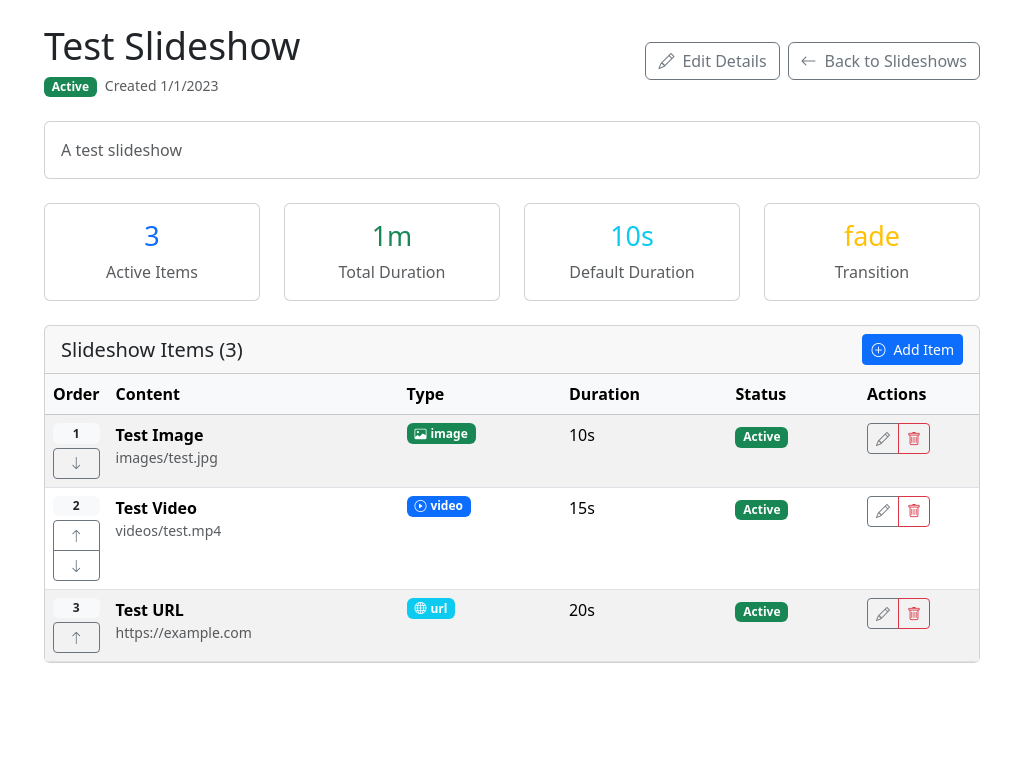
Test case: SlideshowDetail › handles add new item
Expected: the heading "Test Slideshow" is shown, [44, 24, 300, 69]
Click add item button
Click the button "Add Item".
click(913, 350)  # box [862, 334, 963, 365]
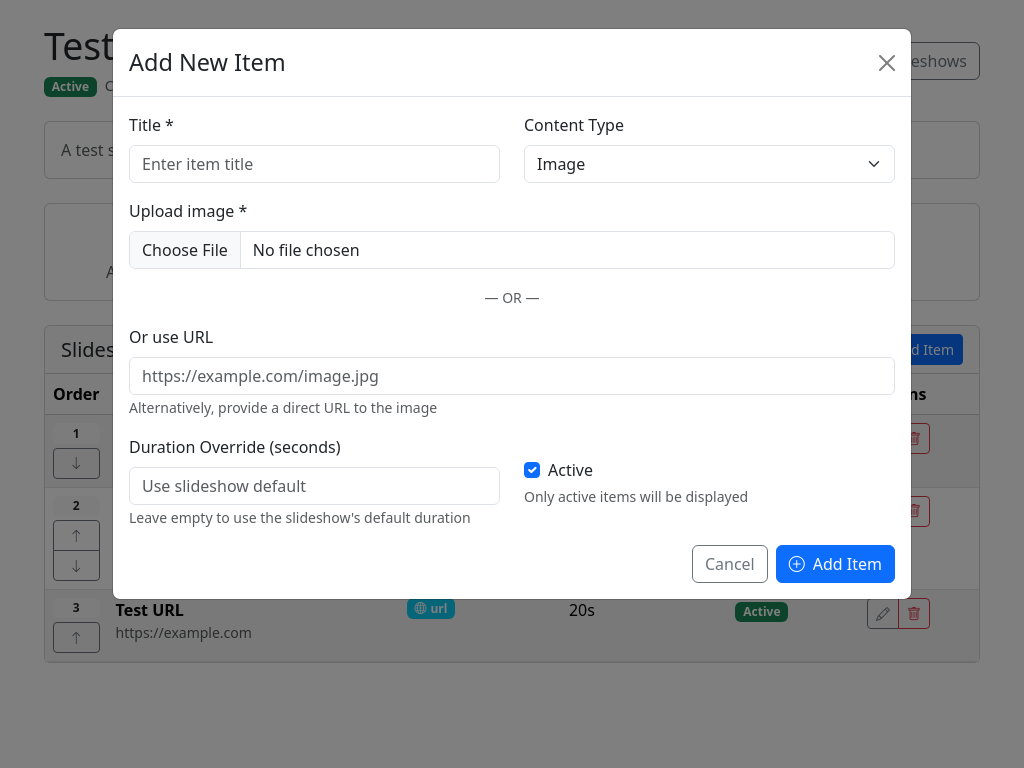
Expected: the text "Add New Item" is shown, [129, 45, 286, 80]
